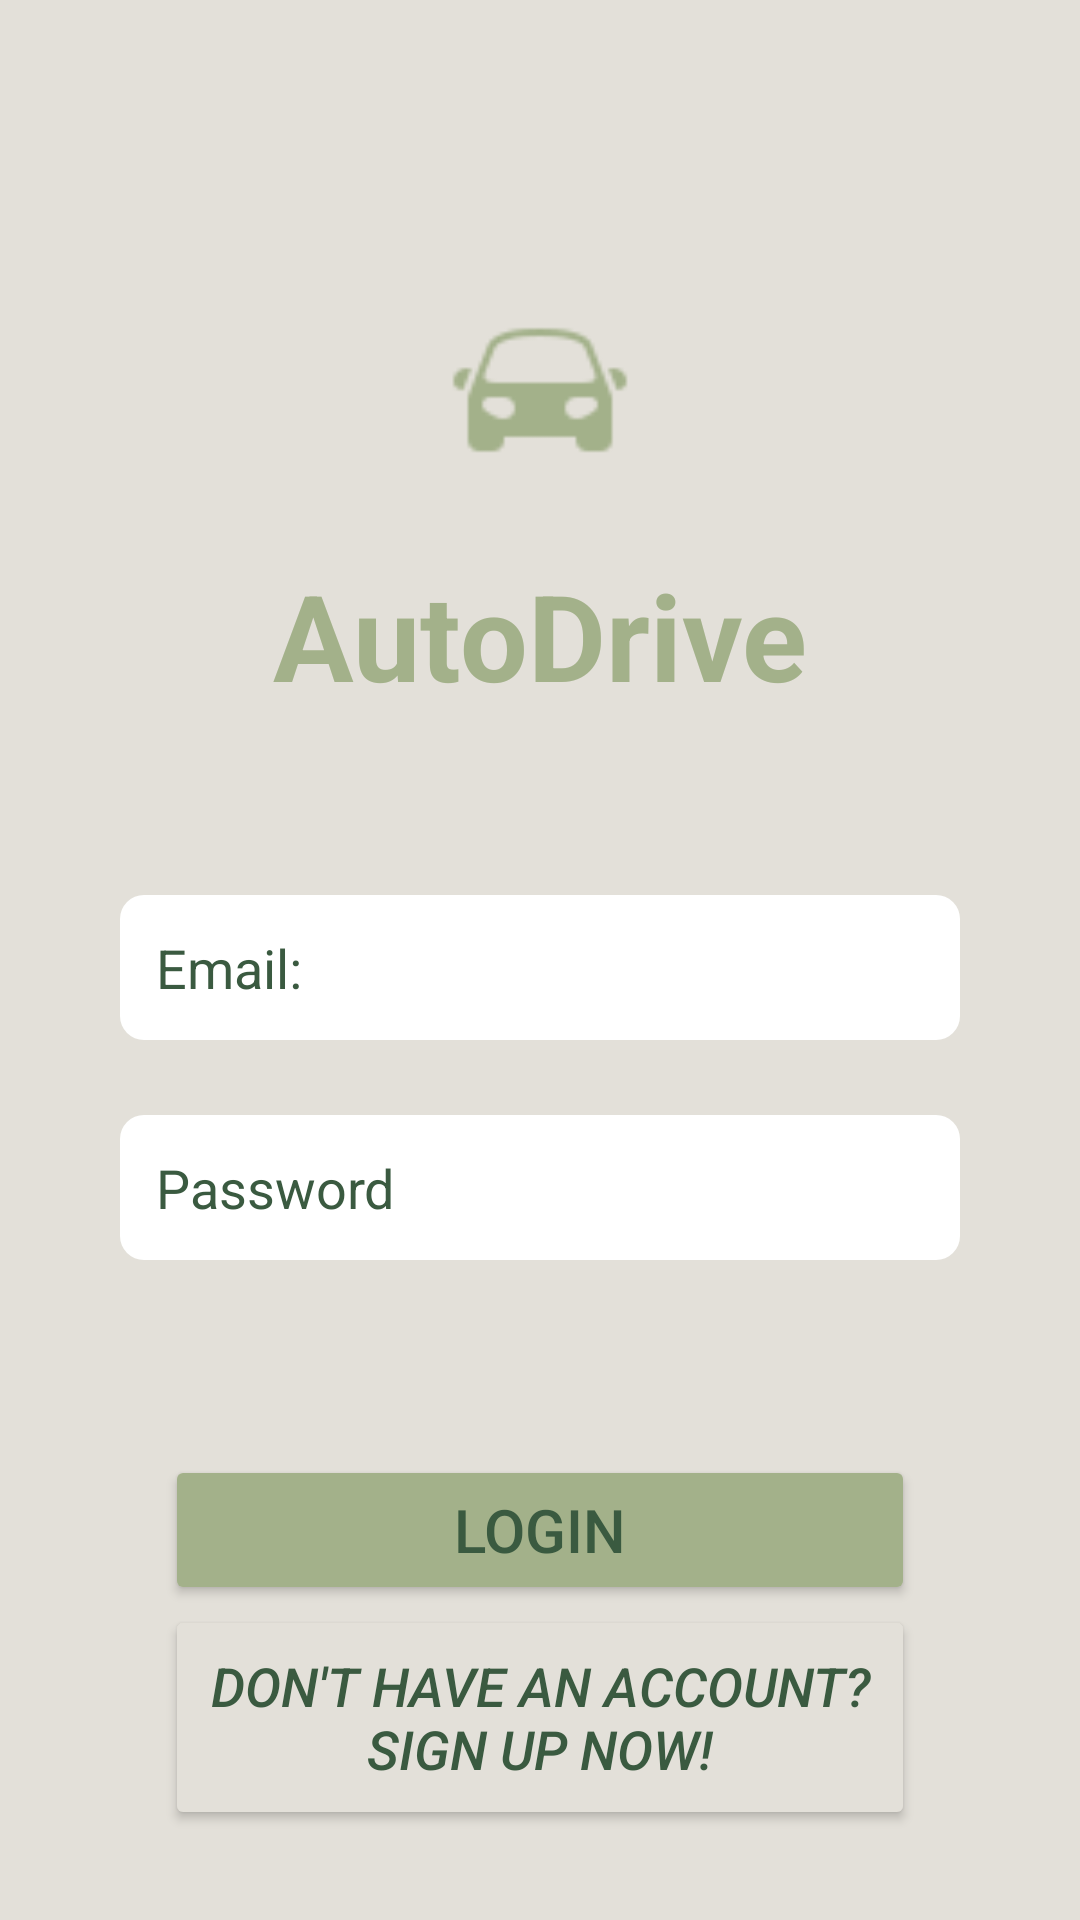

Point at icon controls on the screen. Image size 1080×1920, points as [x,y].
car: [540,390]
